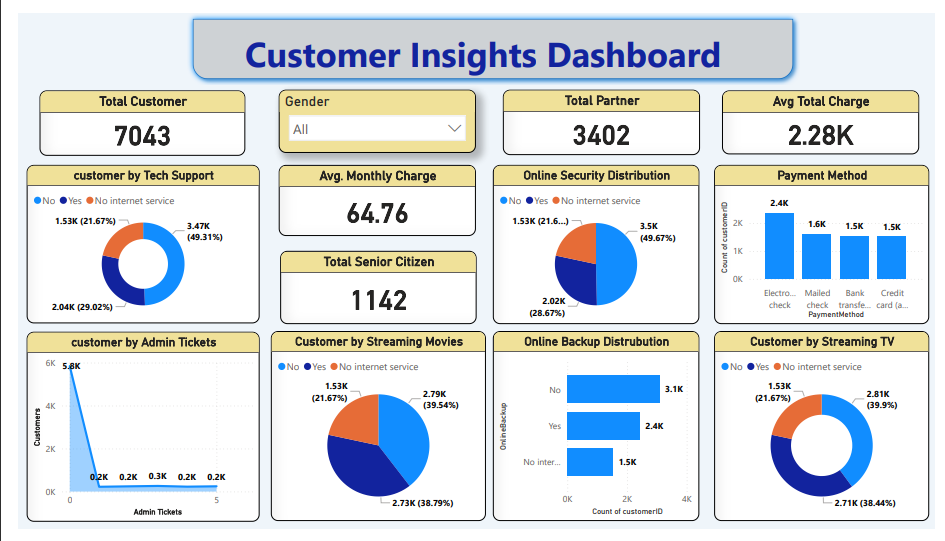

The page's visual inventory and layout, read from the dashboard file:
{"tool":"powerbi","page":{"name":"Page 1","canvas":[1280,720],"ordinal":0},"visuals":[{"type":"card","title":"Total Partner","fields":{"Values":["CountNonNull(Dataset.Partner)"]},"box":[676.7,106.7,275,91.7],"z":0},{"type":"barChart","title":"  Online Backup  Distrubution","fields":{"Category":["Dataset.OnlineBackup"],"Y":["CountNonNull(Dataset.customerID)"]},"box":[663.3,444.4,287.8,264.4],"z":2000},{"type":"lineChart","title":" customer by Admin Tickets","fields":{"Category":["Dataset.numAdminTickets"],"Y":["CountNonNull(Dataset.customerID)"]},"box":[11.7,445,325,265],"z":3000},{"type":"donutChart","title":"customer by Tech Support","fields":{"Category":["Dataset.TechSupport"],"Y":["CountNonNull(Dataset.customerID)"]},"box":[11.7,211.7,325,221.7],"z":4000},{"type":"donutChart","title":"Customer by Streaming TV","fields":{"Category":["Dataset.StreamingTV"],"Y":["CountNonNull(Dataset.customerID)"]},"box":[972.2,444.4,300,264.4],"z":5000},{"type":"pieChart","title":"Customer by Streaming Movies","fields":{"Category":["Dataset.StreamingMovies"],"Y":["CountNonNull(Dataset.customerID)"]},"box":[353.3,444.4,300,264.4],"z":6000},{"type":"columnChart","title":" Payment Method","fields":{"Category":["Dataset.PaymentMethod"],"Y":["CountNonNull(Dataset.customerID)"]},"box":[972.2,212.2,300,222.2],"z":8000},{"type":"pieChart","title":"Online Security Distribution","fields":{"Category":["Dataset.OnlineSecurity"],"Y":["CountNonNull(Dataset.customerID)"]},"box":[663.3,212.2,287.8,222.2],"z":9000},{"type":"card","title":"Avg Total Charge","fields":{"Values":["Avg(Dataset.TotalCharges)"]},"box":[983.3,108.3,275,88.3],"z":9001},{"type":"card","title":"Avg. Monthly Charge","fields":{"Values":["Avg(Dataset.MonthlyCharges)"]},"box":[364.5,211.8,275,98.7],"z":9002},{"type":"card","title":"Total Senior Citizen","fields":{"Values":["Sum(Dataset.SeniorCitizen)"]},"box":[365.6,332.2,274.4,102.2],"z":9003},{"type":"card","title":"Total Customer","fields":{"Values":["Count(Dataset.customerID)"]},"box":[30.3,107.9,286.8,90.8],"z":9004},{"type":"slicer","title":"Gender","fields":{"Values":["Dataset.gender"]},"box":[364.5,106.6,275,88.2],"z":9005},{"type":"shape","box":[235.5,0,855.3,100],"z":9006},{"type":"textbox","box":[311.8,18.4,728.9,81.6],"z":9007}]}

Visuals, with their boxes in screenshot pixels (x1, y1, x2, y2), scaled from the page's 1280x720 canvas onto the 945x541 screenshot:
"Total Partner" card: {"left": 500, "top": 80, "right": 703, "bottom": 149}
"  Online Backup  Distrubution" barChart: {"left": 490, "top": 334, "right": 702, "bottom": 533}
" customer by Admin Tickets" lineChart: {"left": 9, "top": 334, "right": 249, "bottom": 533}
"customer by Tech Support" donutChart: {"left": 9, "top": 159, "right": 249, "bottom": 326}
"Customer by Streaming TV" donutChart: {"left": 718, "top": 334, "right": 939, "bottom": 533}
"Customer by Streaming Movies" pieChart: {"left": 261, "top": 334, "right": 482, "bottom": 533}
" Payment Method" columnChart: {"left": 718, "top": 159, "right": 939, "bottom": 326}
"Online Security Distribution" pieChart: {"left": 490, "top": 159, "right": 702, "bottom": 326}
"Avg Total Charge" card: {"left": 726, "top": 81, "right": 929, "bottom": 148}
"Avg. Monthly Charge" card: {"left": 269, "top": 159, "right": 472, "bottom": 233}
"Total Senior Citizen" card: {"left": 270, "top": 250, "right": 472, "bottom": 326}
"Total Customer" card: {"left": 22, "top": 81, "right": 234, "bottom": 149}
"Gender" slicer: {"left": 269, "top": 80, "right": 472, "bottom": 146}
shape: {"left": 174, "top": 0, "right": 805, "bottom": 75}
textbox: {"left": 230, "top": 14, "right": 768, "bottom": 75}
